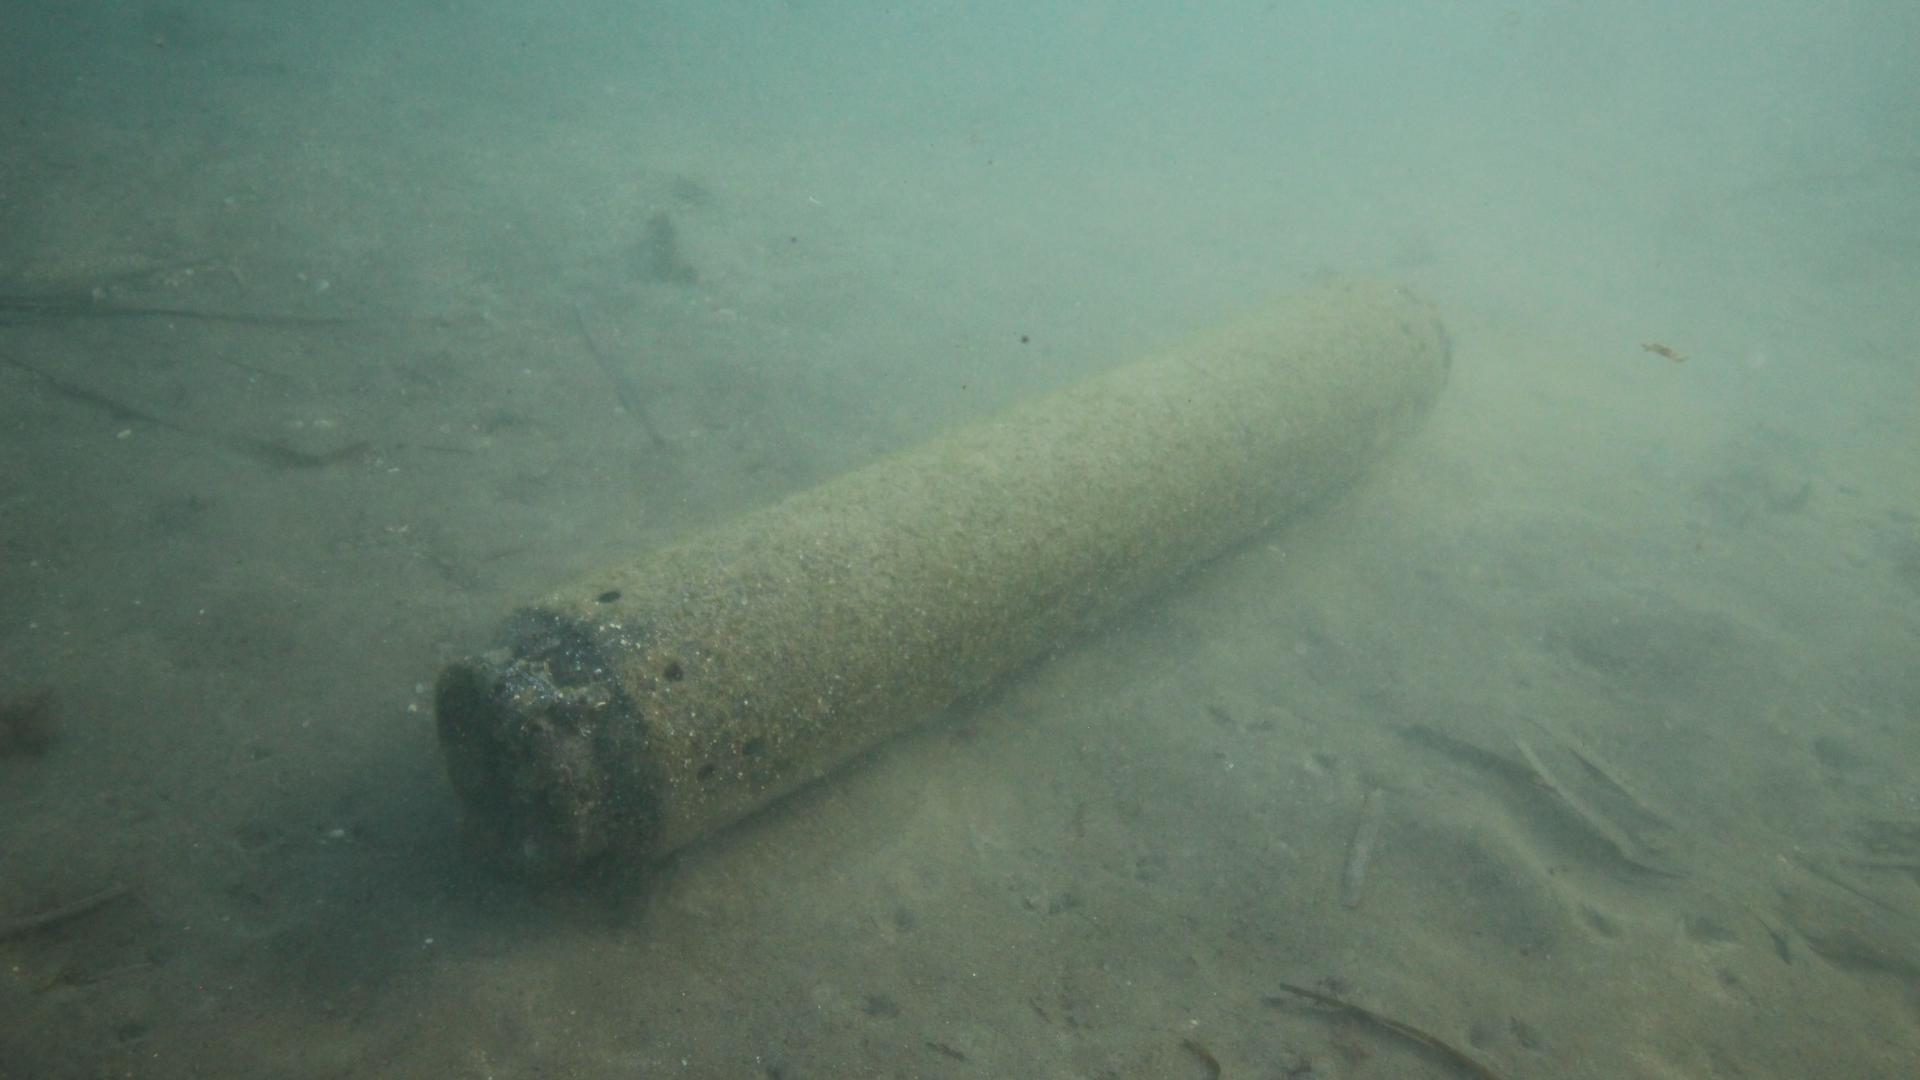eel fish trap: (430, 276, 1452, 887)
